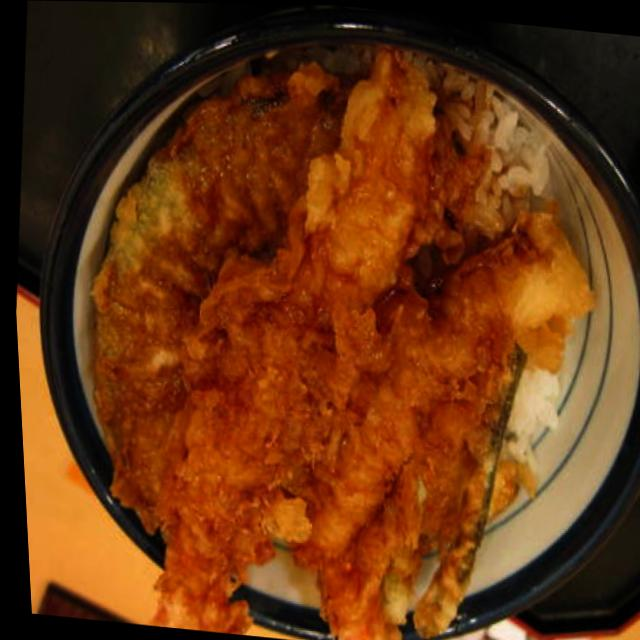熟制海鲜: (12, 0, 640, 640)
